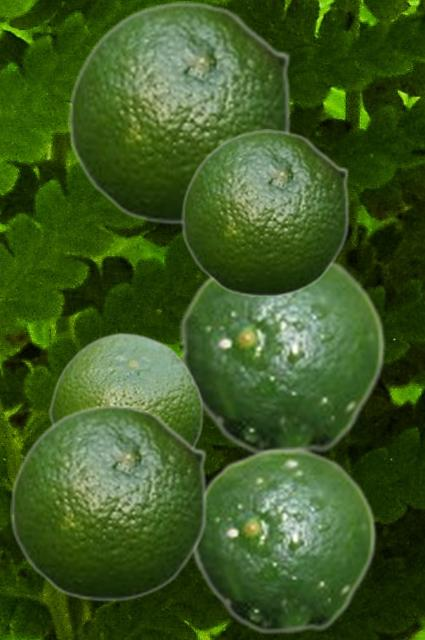calamansi: (68, 1, 291, 224), (179, 258, 385, 455), (10, 404, 207, 601), (191, 447, 376, 634), (181, 129, 349, 297), (48, 331, 203, 446)
